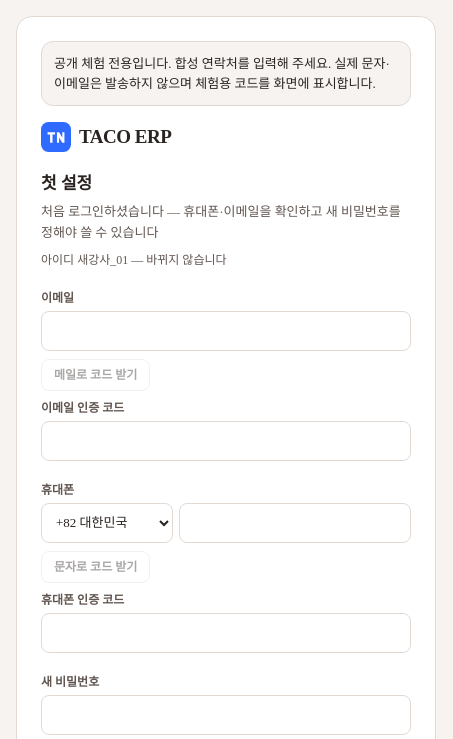
첫 설정 화면 › 응답에 체험용 코드가 있을 때만 「체험용 코드」를 보인다
The image size is (453, 739).
Type "dev@tnacademy.kr" into the field labelled "이메일". click: (226, 331)
box: [41, 311, 411, 351]
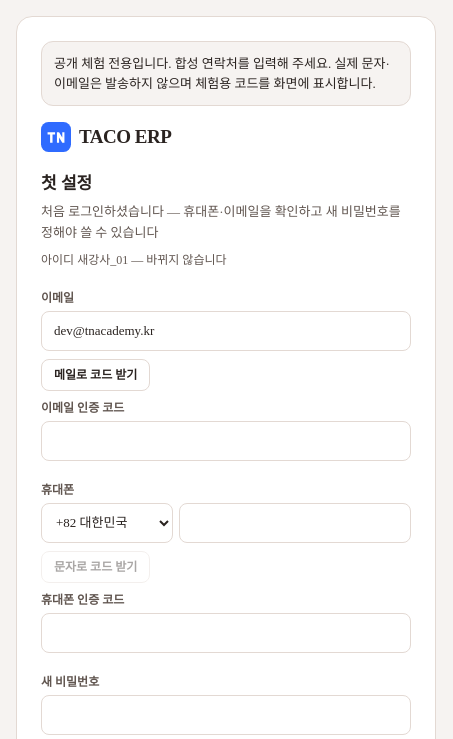
Click the button "메일로 코드 받기". click: (96, 375)
box: [41, 359, 150, 391]
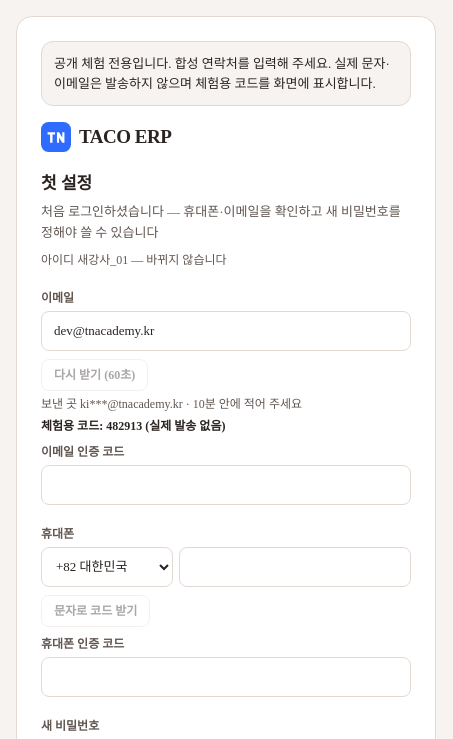
expect the text "체험용 코드: 482913 (실제 발송 없음)" is shown: met, box [41, 419, 225, 433]
